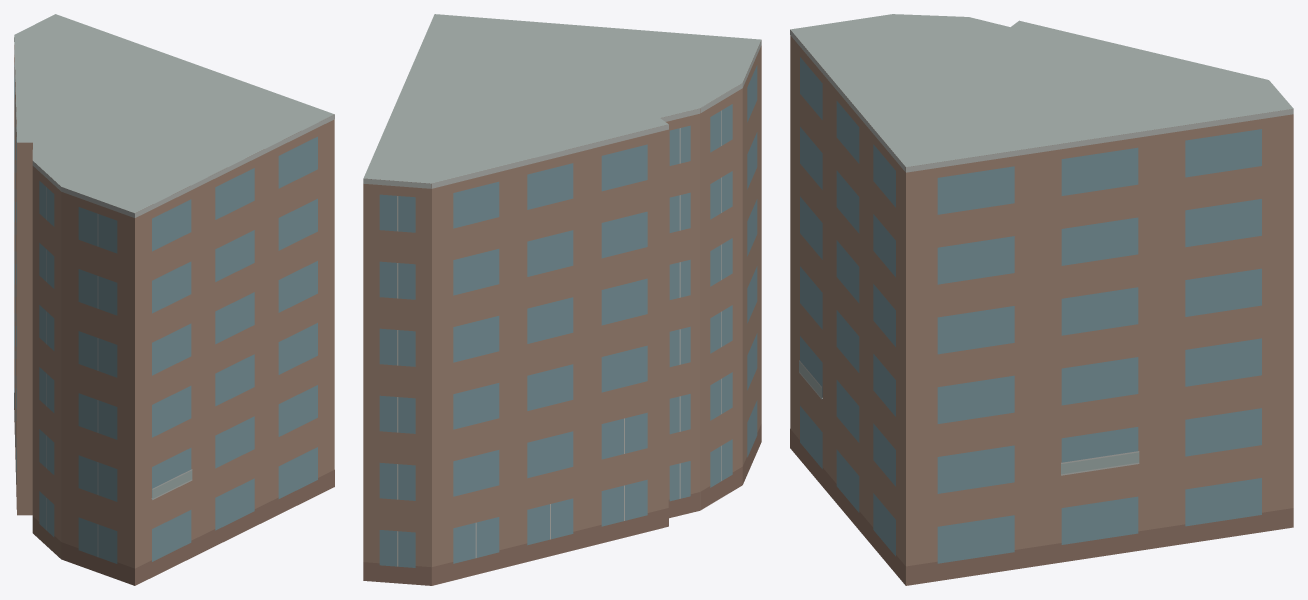
Rendered from survey-upis-32850655.glb.
3 views of the same model, side by side, from view 1: azimuth 30°, elevation 25°; view 2: azimuth 150°, elevation 25°; view 3: azimuth 270°, elevation 25° (orthographic). The views are drawn at different scales.
Parts seen in each view (by area): view 1: survey-upis-32850655.tmp; view 2: survey-upis-32850655.tmp; view 3: survey-upis-32850655.tmp.
Part boxes in pixels (x1,y1,x2,y2): survey-upis-32850655.tmp: (14, 14, 334, 585); survey-upis-32850655.tmp: (363, 14, 761, 585); survey-upis-32850655.tmp: (790, 14, 1293, 585).
Size of the model in its own units: 14.61 by 18.6 by 20.28.
